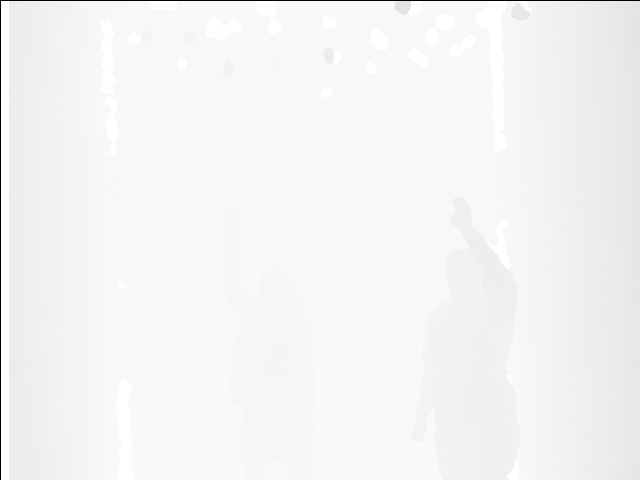hand: (448, 196, 480, 237), (220, 210, 249, 246)
